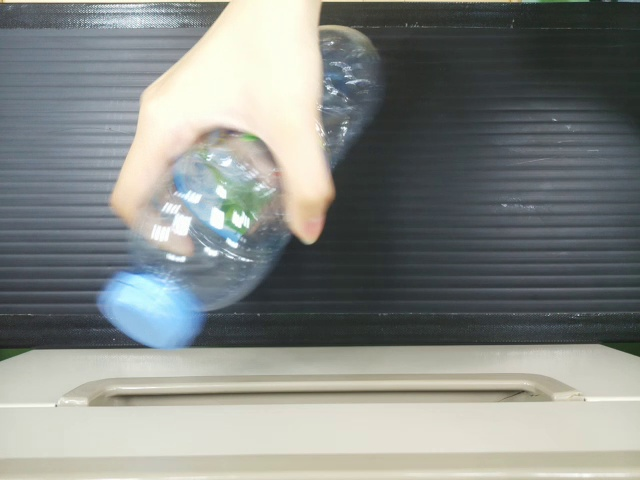bottle: (103, 121, 291, 347), (319, 21, 386, 169)
